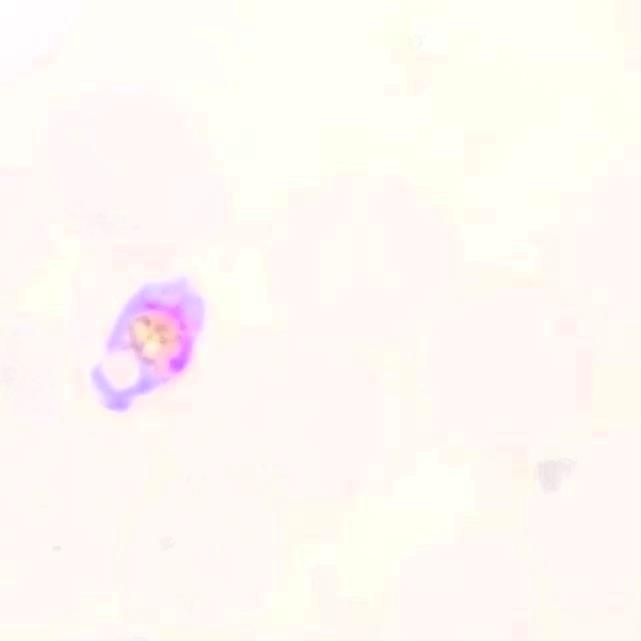Infected: (86, 276, 210, 421)
